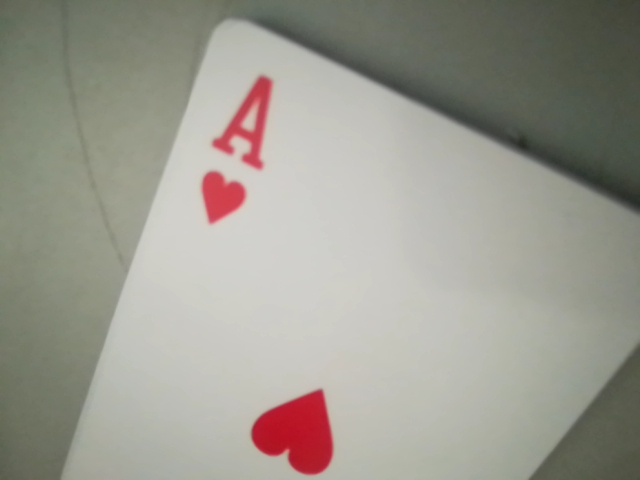hx a: (200, 53, 283, 189)
